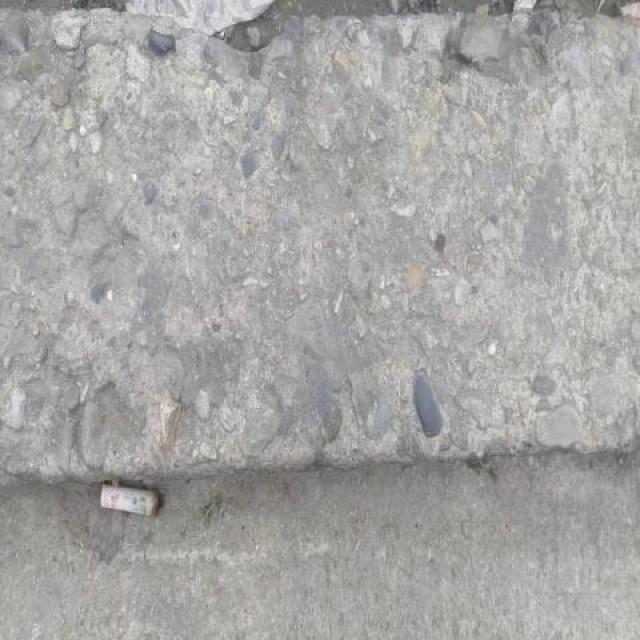non-organic waste: (96, 479, 168, 522)
